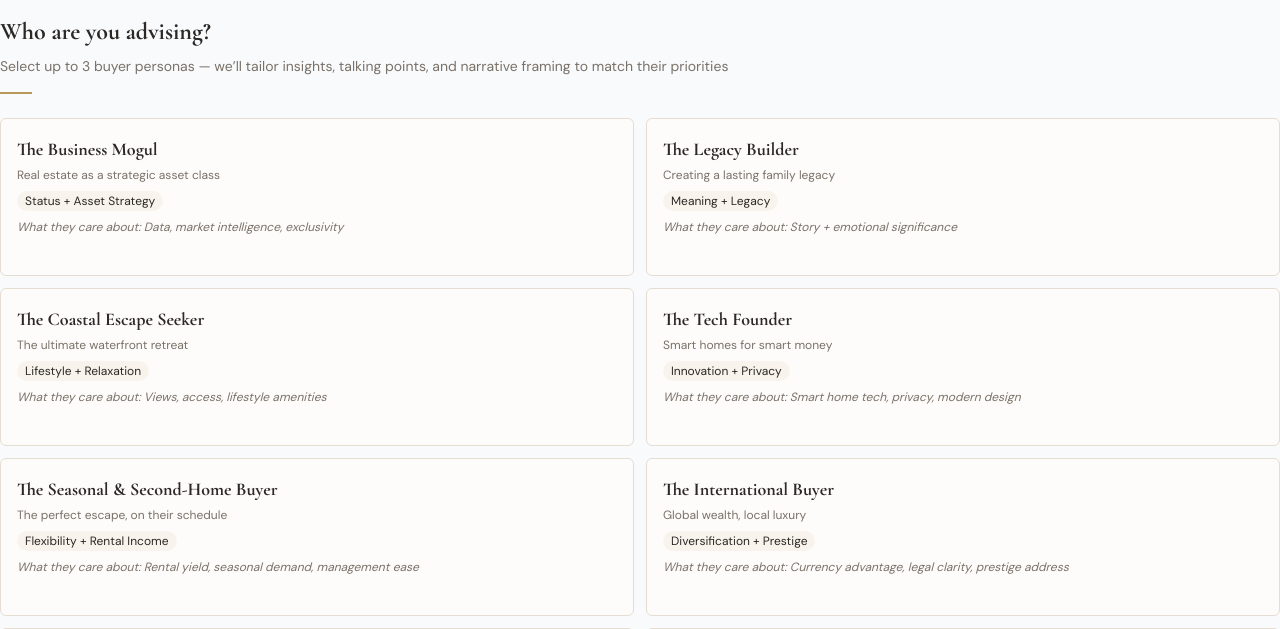
Test: Step 4: Your Audience (#155) › StepYourAudience › CMP-155-12: shows selection badge
Expected: the heading "The Business Mogul" is shown, [17, 138, 158, 160]
Click the switch "The Business Mogul" at (87, 149), box [0, 118, 634, 276]
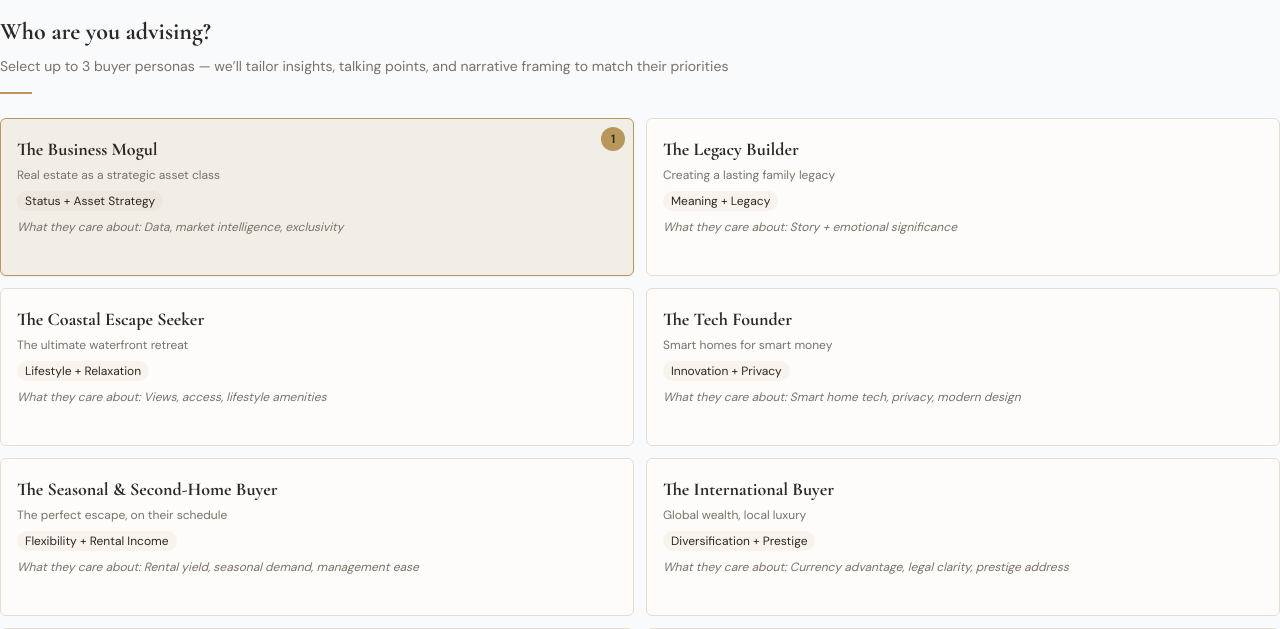
Now the text "1" is shown, box [601, 127, 625, 151]
